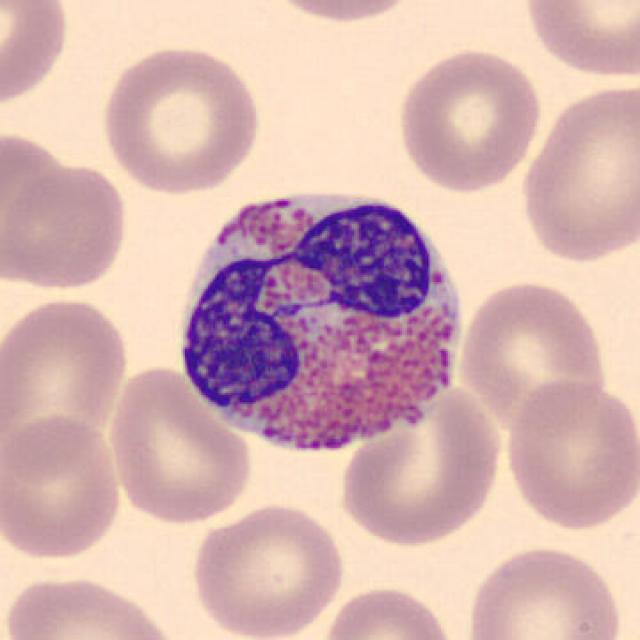Eosinophil: (167, 167, 478, 471)
RBC: (336, 384, 507, 548), (96, 41, 265, 198), (103, 362, 256, 527), (454, 277, 612, 430), (0, 293, 132, 469), (393, 44, 546, 194), (186, 499, 348, 640), (516, 80, 638, 266), (502, 378, 638, 532), (0, 413, 126, 564), (2, 158, 132, 294), (460, 541, 628, 640), (0, 571, 183, 640), (519, 0, 638, 81), (318, 582, 461, 640), (0, 0, 73, 111), (256, 0, 426, 26)
